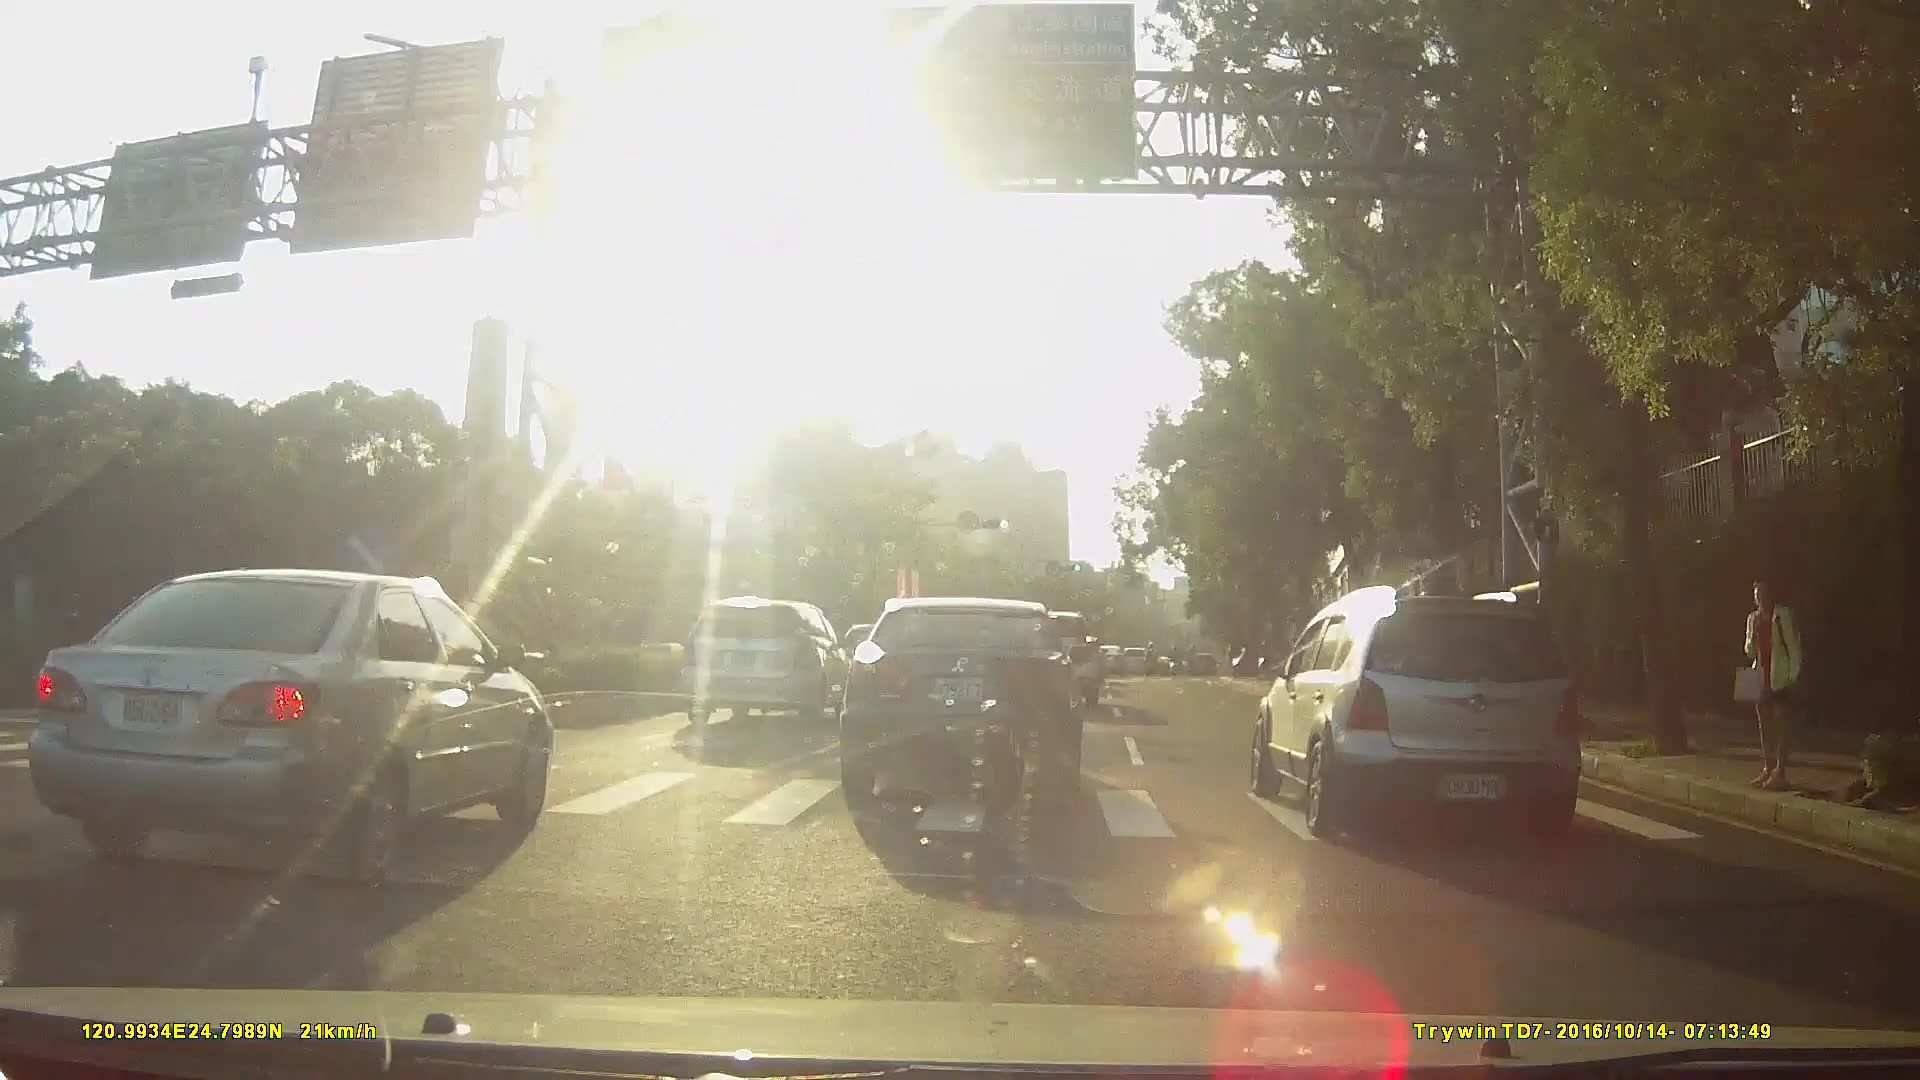pedestrian: (1736, 574, 1811, 795)
vehicle: (5, 560, 559, 887), (1231, 571, 1610, 847), (844, 592, 1102, 804), (668, 591, 850, 722), (1087, 638, 1122, 671), (1112, 639, 1146, 669)
